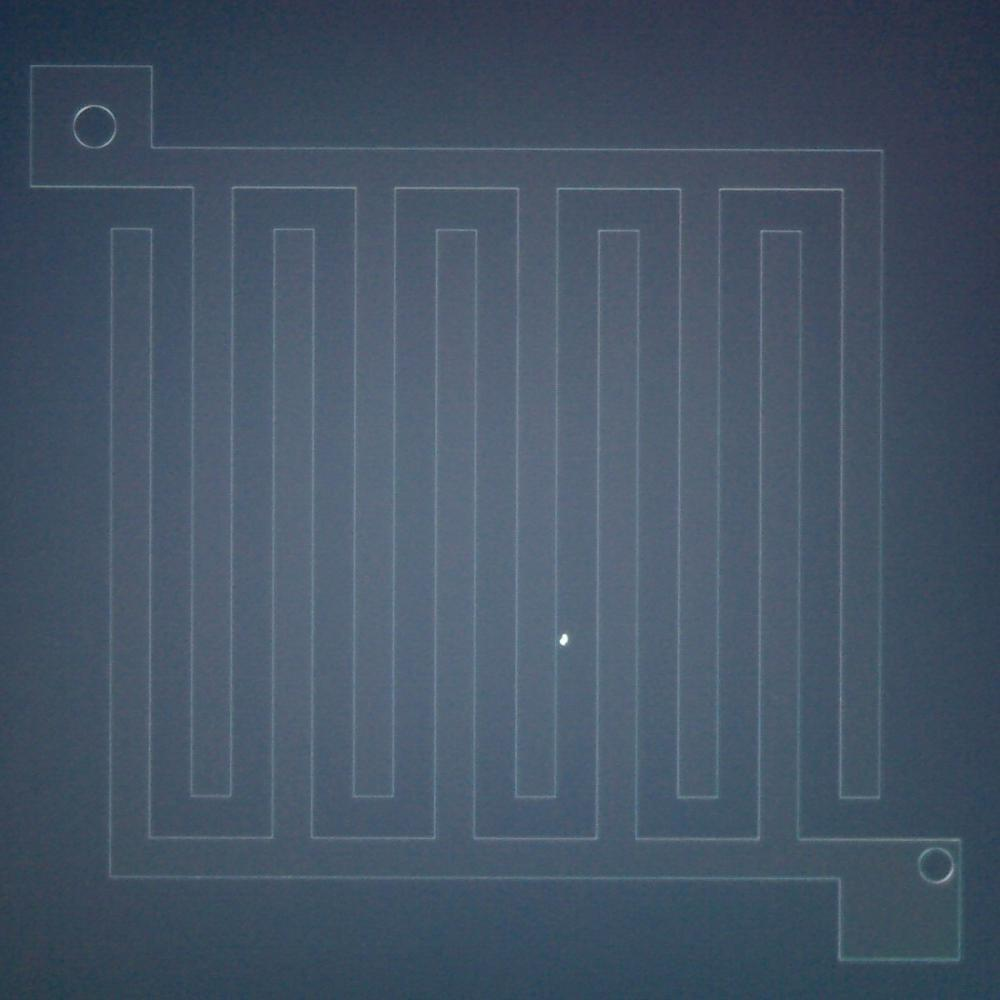circle: (68, 98, 120, 152), (916, 844, 958, 884)
spot: (552, 622, 573, 654)
